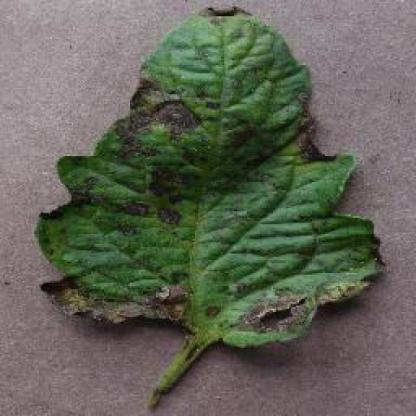Tomato_Blight: (39, 7, 383, 346)
